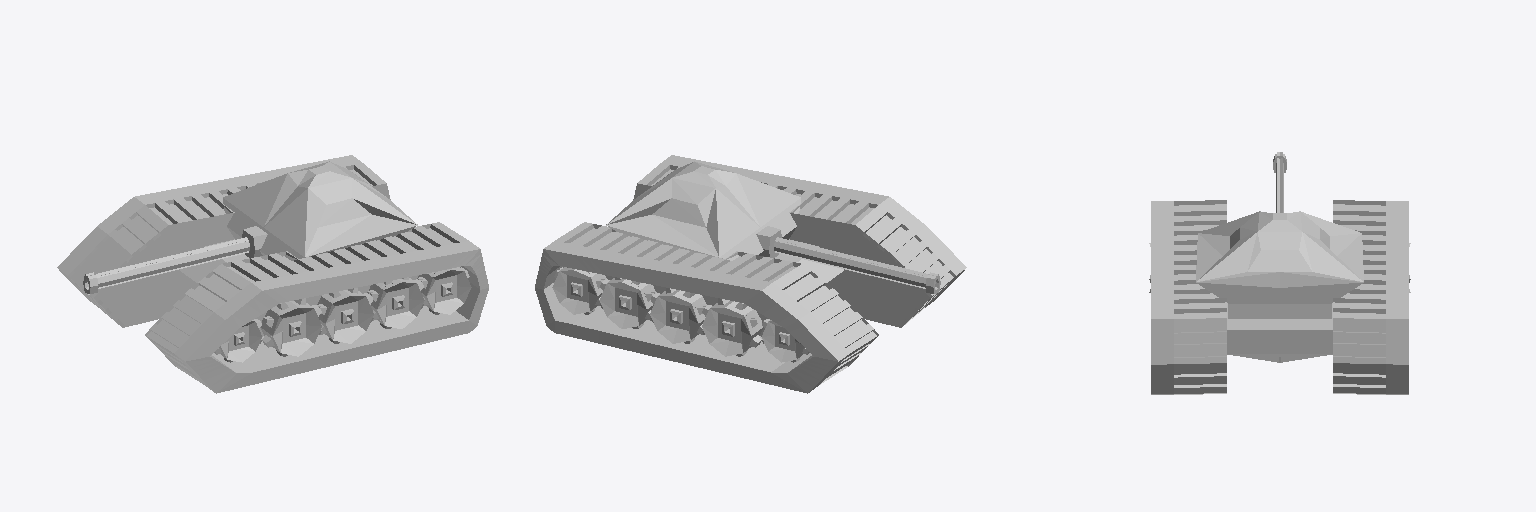
File: tank.obj
The picture shows the model from 3 angles: view 1: azimuth 30°, elevation 25°; view 2: azimuth 150°, elevation 25°; view 3: azimuth 270°, elevation 25°; orthographic projection.
Visible parts, largest first — view 1: Cube; view 2: Cube; view 3: Cube.
Boxes of the visible parts, x1=… form: Cube: x1=57, y1=155, x2=488, y2=393; Cube: x1=535, y1=155, x2=966, y2=393; Cube: x1=1149, y1=152, x2=1410, y2=394.
Size of the model in its own units: 14.37 by 5.7 by 9.61.